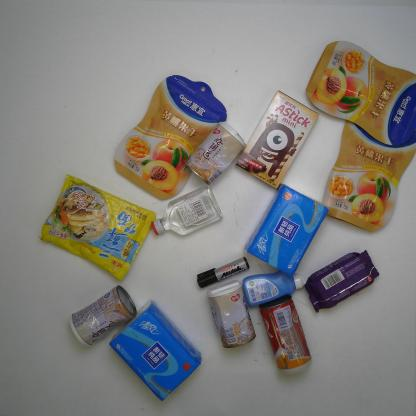Alcohol: (150, 184, 222, 236)
Canned Food: (67, 284, 137, 345), (259, 296, 312, 376), (185, 121, 248, 185), (206, 278, 256, 348)
Dessert: (239, 89, 321, 189), (303, 250, 380, 312)
Dried Fruit: (112, 72, 229, 201), (305, 40, 416, 145), (322, 116, 416, 231)
Instant Noodles: (40, 174, 157, 281)
Personal Hygiene: (240, 271, 308, 309)
Stationery: (194, 254, 251, 288)
Tissue: (106, 298, 202, 404), (245, 181, 328, 277)
